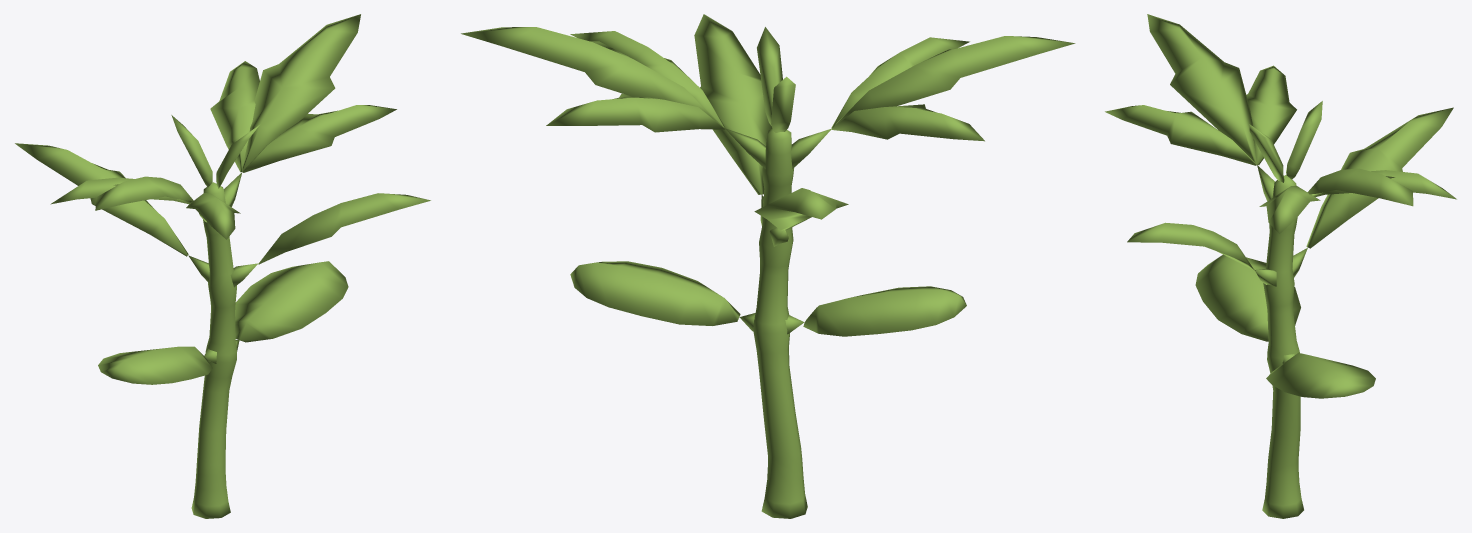
The model's file is plant_seedling.glb.
3 views of the same model, side by side, from view 1: azimuth 30°, elevation 25°; view 2: azimuth 150°, elevation 25°; view 3: azimuth 270°, elevation 25° (orthographic). The views are drawn at different scales.
Visible parts, largest first — view 1: Leaves; view 2: Leaves; view 3: Leaves.
Boxes of the visible parts, <box> form: Leaves: <box>15,14,430,518</box>; Leaves: <box>461,14,1075,518</box>; Leaves: <box>1105,14,1456,518</box>.
Bounding box in the file's own units: 0.3155 × 0.3095 × 0.2369.
